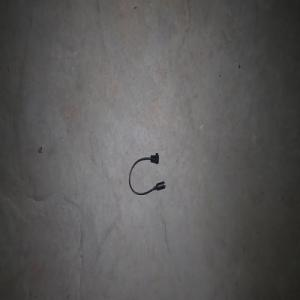Wire: (128, 152, 165, 195)
